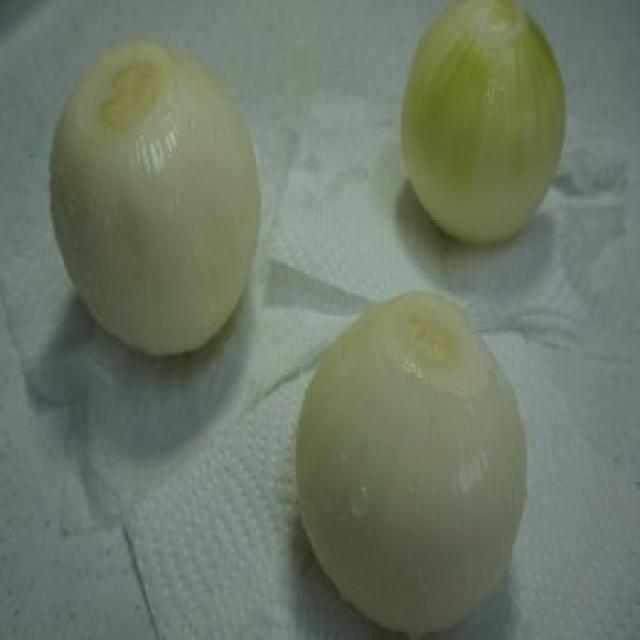onion: (45, 36, 281, 372), (316, 270, 524, 625), (405, 8, 570, 252)
